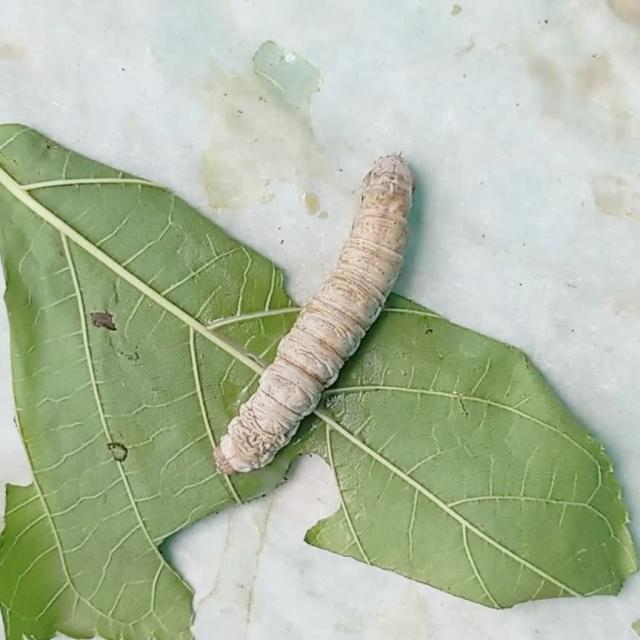Grasserie: (206, 144, 437, 479)
